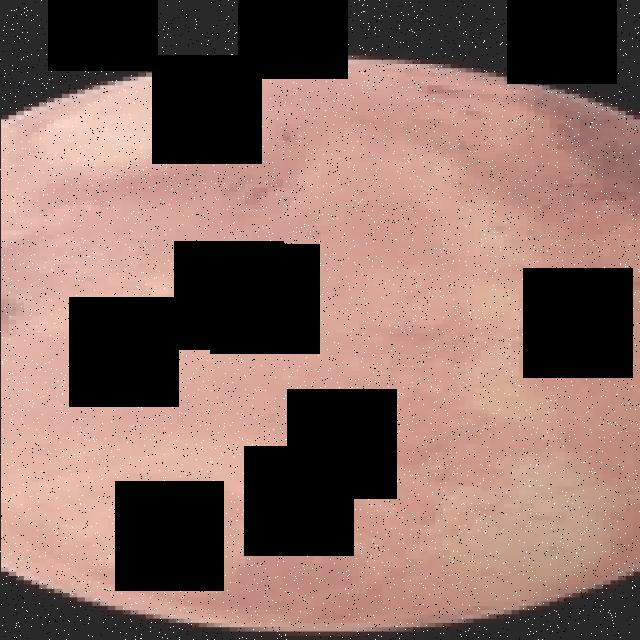Mars: (0, 56, 640, 632)
